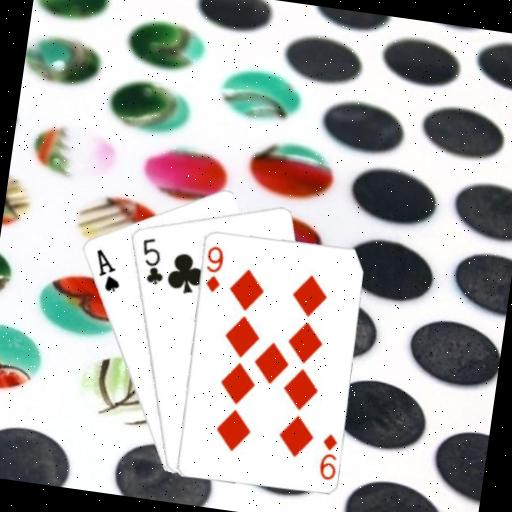5C: (134, 234, 170, 288)
9D: (200, 241, 227, 294), (315, 429, 341, 482)
AS: (88, 245, 126, 295)
